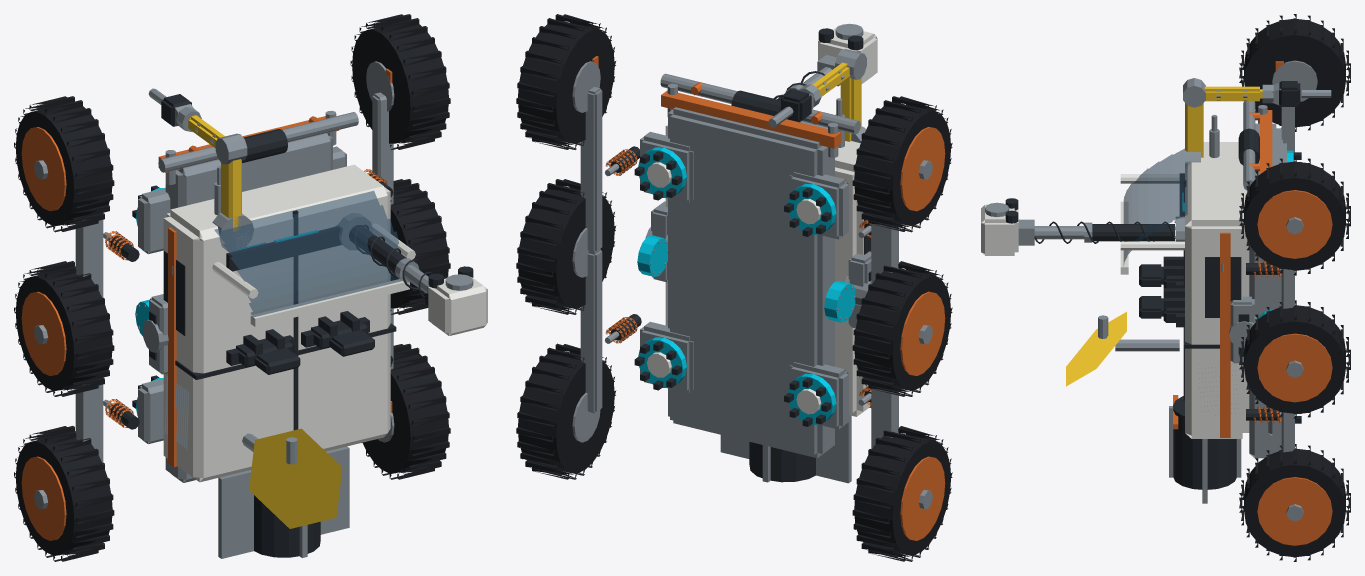
File: ares_vi_aaa_lod1.obj
The picture shows the model from 3 angles, left to right: view 1: azimuth 30°, elevation 25°; view 2: azimuth 150°, elevation 25°; view 3: azimuth 270°, elevation 25°; orthographic projection. The views are drawn at different scales.
Visible parts, largest first — view 1: Hull_ArmorUpper, Cockpit_CanopyGlass, Wheel_FR_TireBody, Antenna_GoldDish, Wheel_FL_TireBody, Wheel_ML_TireBody, Wheel_RL_TireBody, Wheel_RR_TireBody, Chassis_MainSpine, MMRTG_Fin_Horiz, Wheel_MR_TireBody, Wheel_FL_LugTreads (+35 smaller); view 2: Chassis_MainSpine, Wheel_FR_TireBody, Wheel_RR_TireBody, Wheel_MR_TireBody, Wheel_FL_TireBody, Wheel_ML_TireBody, Wheel_RL_TireBody, Hull_ArmorUpper, Suspension_Right_BogieBridge, Suspension_Right_RearArm, Wheel_FL_LugTreads, Wheel_ML_LugTreads (+34 smaller); view 3: Hull_ArmorUpper, Wheel_FL_TireBody, Wheel_FR_TireBody, Wheel_RR_TireBody, Wheel_MR_TireBody, Wheel_MR_BeadlockRing, Wheel_RR_BeadlockRing, Wheel_FR_BeadlockRing, Cockpit_CanopyGlass, MMRTG_MainCore, Chassis_MainSpine, Hull_SafetyStrake_R (+27 smaller).
Part boxes in pixels (x1=…): Hull_ArmorUpper: x1=163, y1=164, x2=390, y2=482; Cockpit_CanopyGlass: x1=214, y1=191, x2=401, y2=319; Wheel_FR_TireBody: x1=352, y1=24, x2=448, y2=143; Antenna_GoldDish: x1=249, y1=428, x2=342, y2=528; Wheel_FL_TireBody: x1=15, y1=106, x2=112, y2=225; Wheel_ML_TireBody: x1=15, y1=271, x2=112, y2=390; Wheel_RL_TireBody: x1=15, y1=436, x2=112, y2=555; Wheel_RR_TireBody: x1=363, y1=354, x2=448, y2=473; Chassis_MainSpine: x1=165, y1=133, x2=332, y2=482; MMRTG_Fin_Horiz: x1=218, y1=446, x2=349, y2=558; Wheel_MR_TireBody: x1=390, y1=189, x2=448, y2=308; Wheel_FL_LugTreads: x1=14, y1=96, x2=114, y2=232; Chassis_MainSpine: x1=668, y1=107, x2=834, y2=458; Wheel_FR_TireBody: x1=518, y1=20, x2=614, y2=143; Wheel_RR_TireBody: x1=518, y1=350, x2=614, y2=473; Wheel_MR_TireBody: x1=518, y1=185, x2=614, y2=308; Wheel_FL_TireBody: x1=854, y1=102, x2=951, y2=225; Wheel_ML_TireBody: x1=854, y1=268, x2=951, y2=390; Wheel_RL_TireBody: x1=854, y1=433, x2=951, y2=555; Hull_ArmorUpper: x1=665, y1=124, x2=870, y2=416; Suspension_Right_BogieBridge: x1=580, y1=86, x2=602, y2=252; Suspension_Right_RearArm: x1=580, y1=249, x2=602, y2=413; Wheel_FL_LugTreads: x1=852, y1=96, x2=952, y2=232; Wheel_ML_LugTreads: x1=852, y1=261, x2=952, y2=396; Hull_ArmorUpper: x1=1185, y1=142, x2=1249, y2=438; Wheel_FL_TireBody: x1=1244, y1=19, x2=1345, y2=127; Wheel_FR_TireBody: x1=1244, y1=161, x2=1345, y2=270; Wheel_RR_TireBody: x1=1244, y1=449, x2=1345, y2=557; Wheel_MR_TireBody: x1=1244, y1=305, x2=1345, y2=413; Wheel_MR_BeadlockRing: x1=1257, y1=333, x2=1332, y2=402; Wheel_RR_BeadlockRing: x1=1257, y1=477, x2=1332, y2=545; Wheel_FR_BeadlockRing: x1=1257, y1=190, x2=1332, y2=258; Cockpit_CanopyGlass: x1=1123, y1=148, x2=1187, y2=265; MMRTG_MainCore: x1=1173, y1=396, x2=1236, y2=489; Chassis_MainSpine: x1=1249, y1=123, x2=1281, y2=458; Hull_SafetyStrake_R: x1=1220, y1=232, x2=1230, y2=437.
Bounding box in the file's own units: 2.9 × 3.21 × 2.76.
